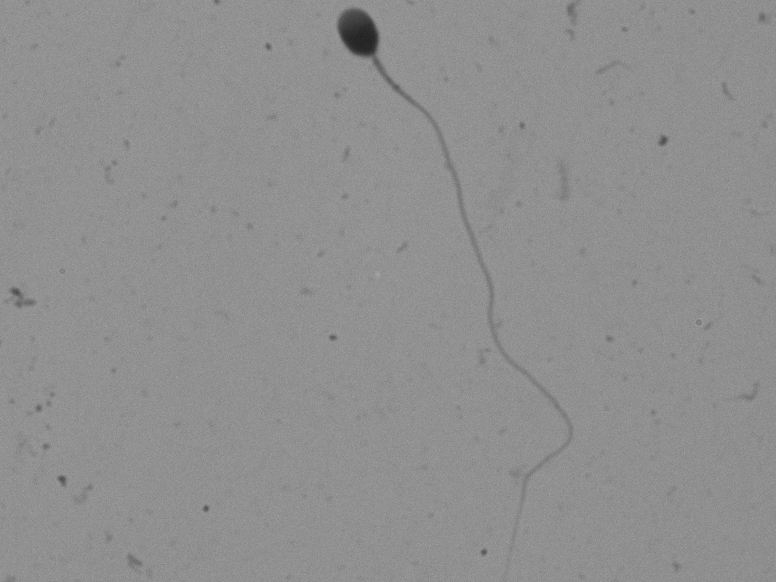Normal: (305, 3, 618, 570)
